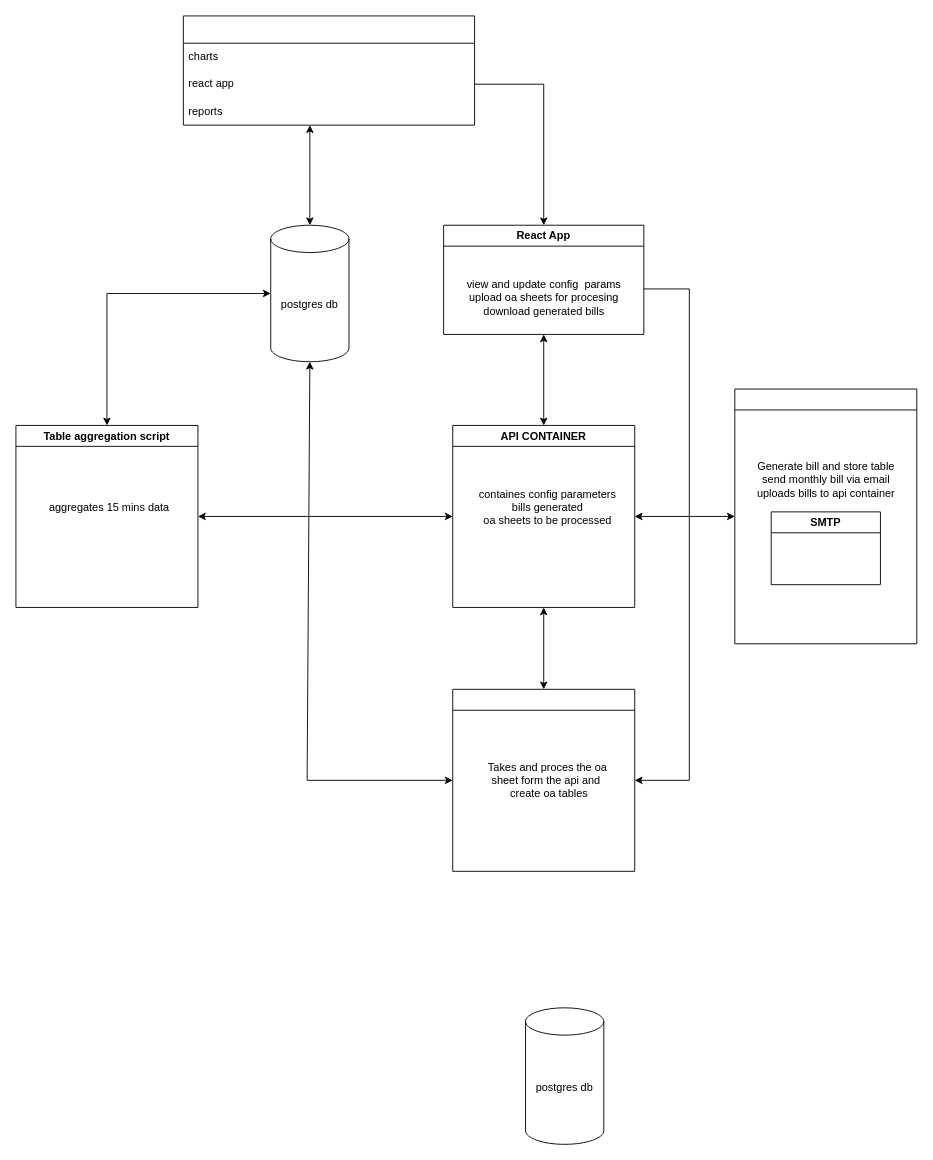
This 933x1160 diagram has some shape labels left out. Each missing label, with the box of its shape:
BILL GENERATOR: (734, 388, 917, 644)
OA SCRIPT: (452, 688, 635, 871)
Supserset DashBoards: (182, 15, 475, 125)
